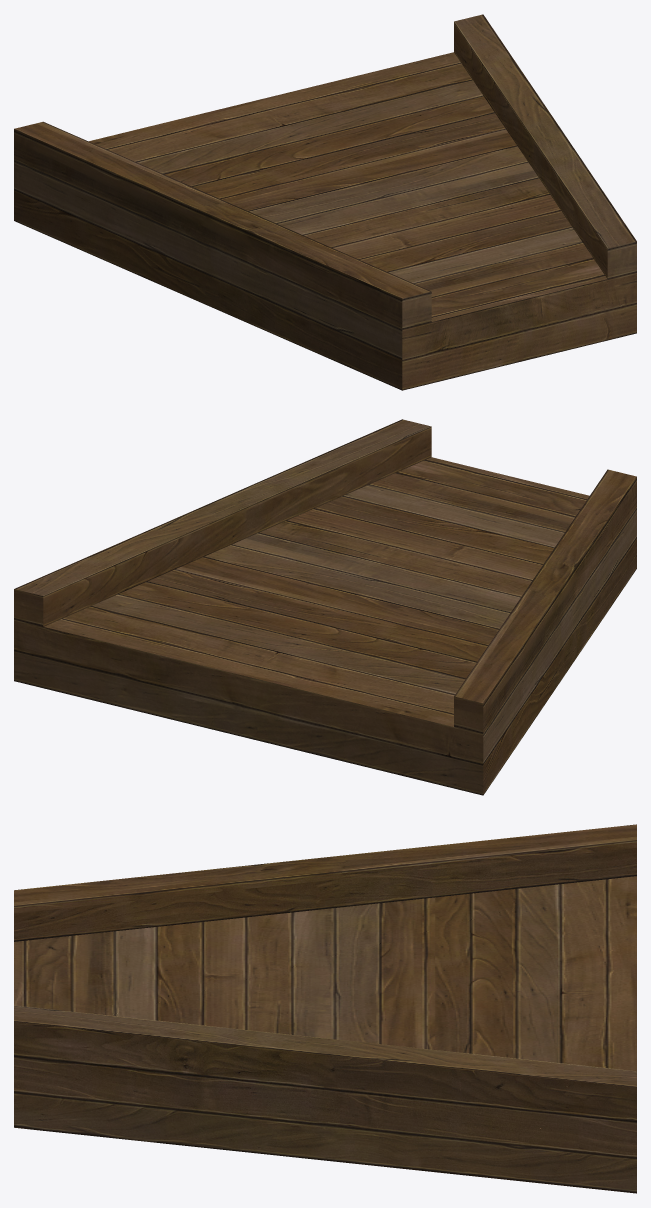
The model's file is GutterFunnel.gltf.
3 views of the same model, one above another, from view 1: azimuth 30°, elevation 25°; view 2: azimuth 150°, elevation 25°; view 3: azimuth 270°, elevation 25° (orthographic). The views are drawn at different scales.
Parts seen in each view (by area): view 1: GutterFunnel_glb; view 2: GutterFunnel_glb; view 3: GutterFunnel_glb.
Boxes of the visible parts, left/top/right/bottom form: GutterFunnel_glb: left=14, top=14, right=636, bottom=390; GutterFunnel_glb: left=14, top=419, right=636, bottom=795; GutterFunnel_glb: left=14, top=824, right=636, bottom=1193.
Size of what is drawn, in the model's own units: 4 by 0.75 by 4.
1 material, 1 textured.
